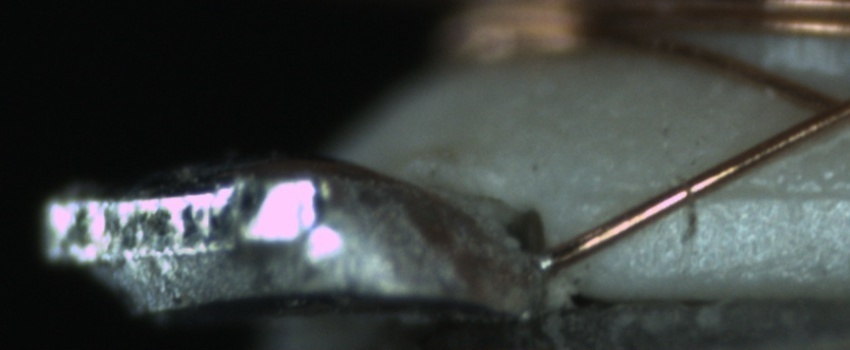CL: (781, 74, 848, 136)
DL: (609, 159, 847, 227)
